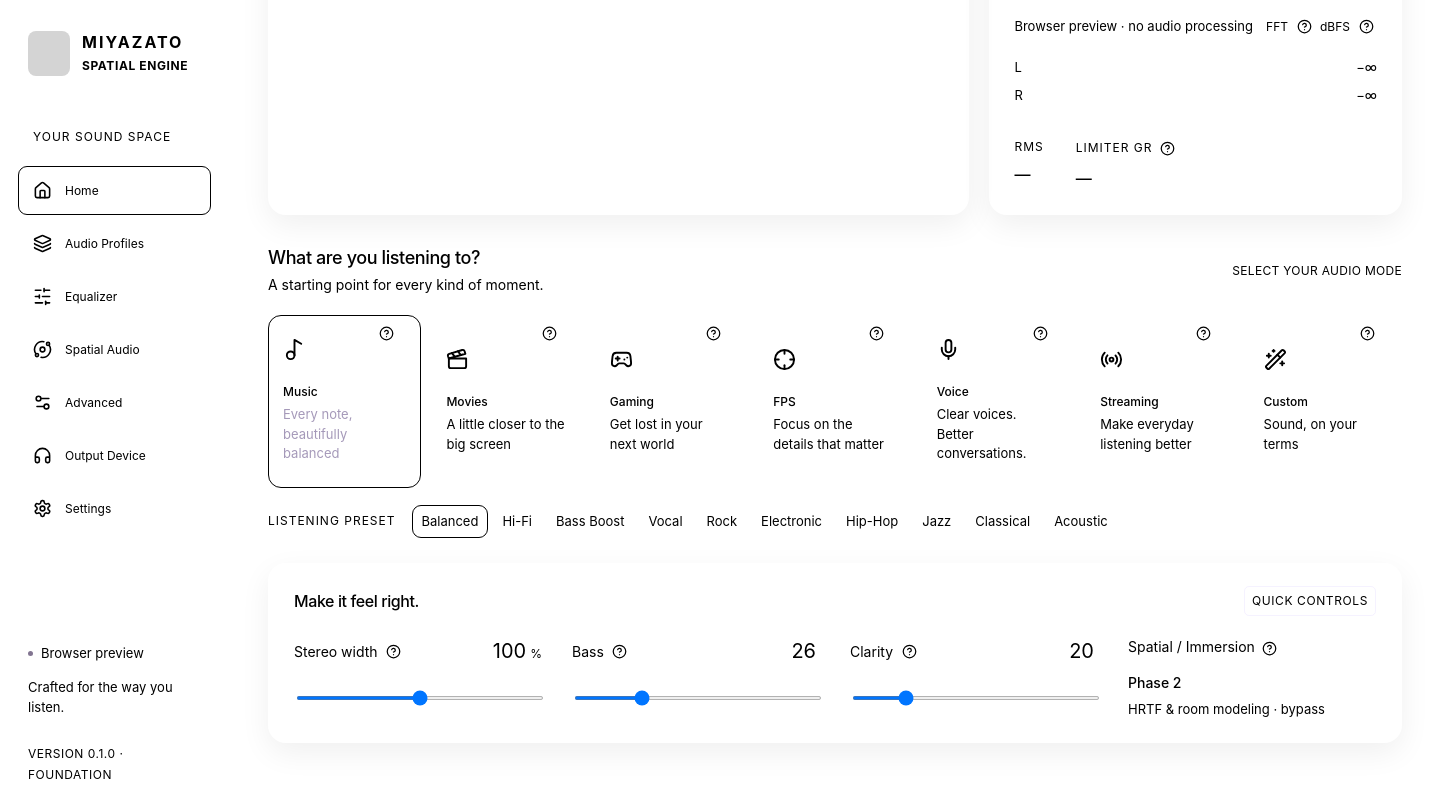
desktop UI › switches modes and exposes genuine DSP controls
(page scrolled)
Click the button "FPS Focus on the details that matter". click: click(835, 401)
box: top-left (758, 314), bottom-right (912, 488)
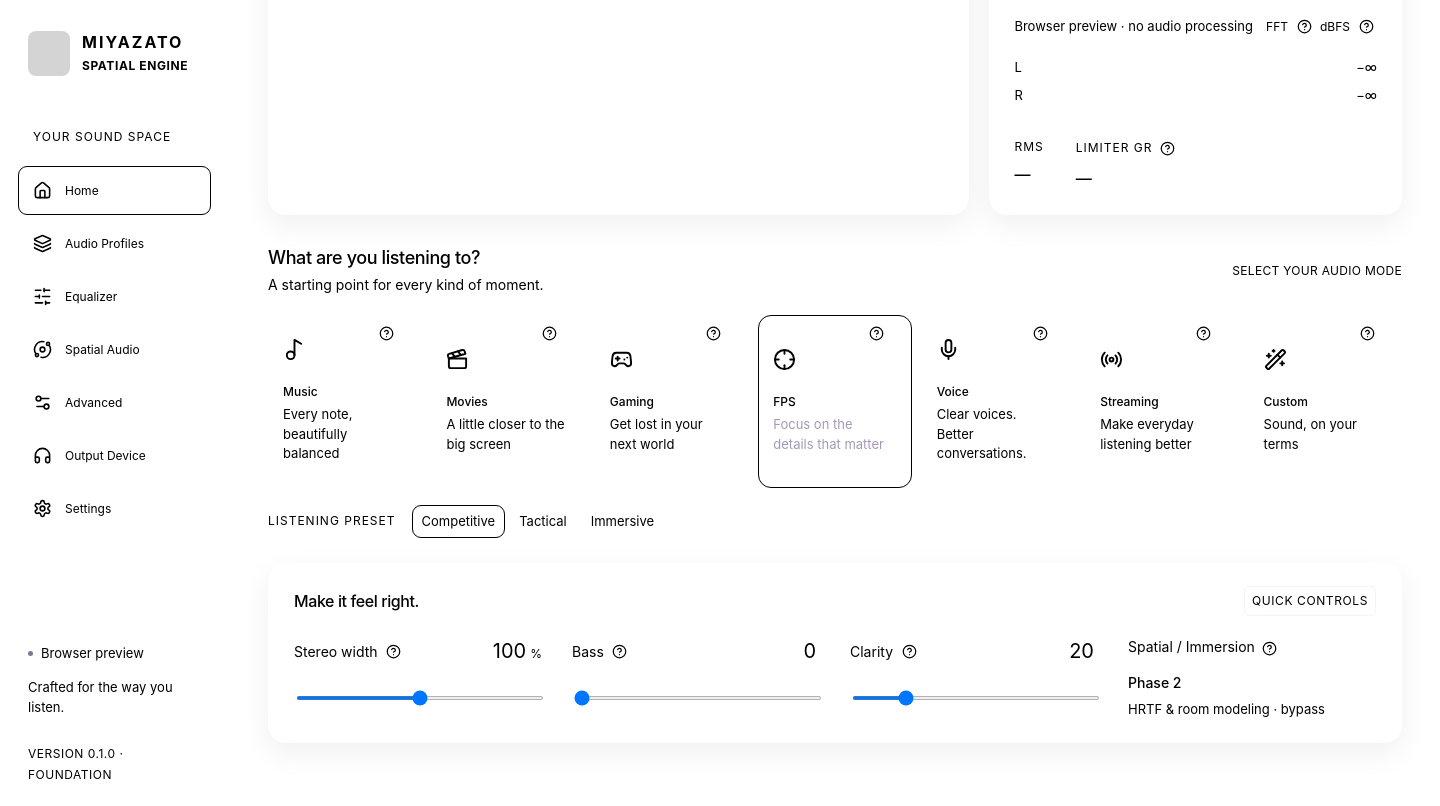
Expected: the slider labelled "Bass" holds "0", top-left (574, 696), bottom-right (822, 700)
